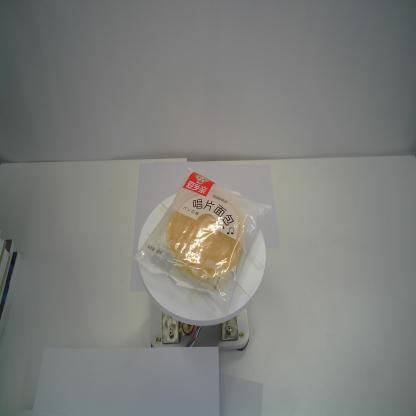Dessert: (133, 167, 271, 314)
